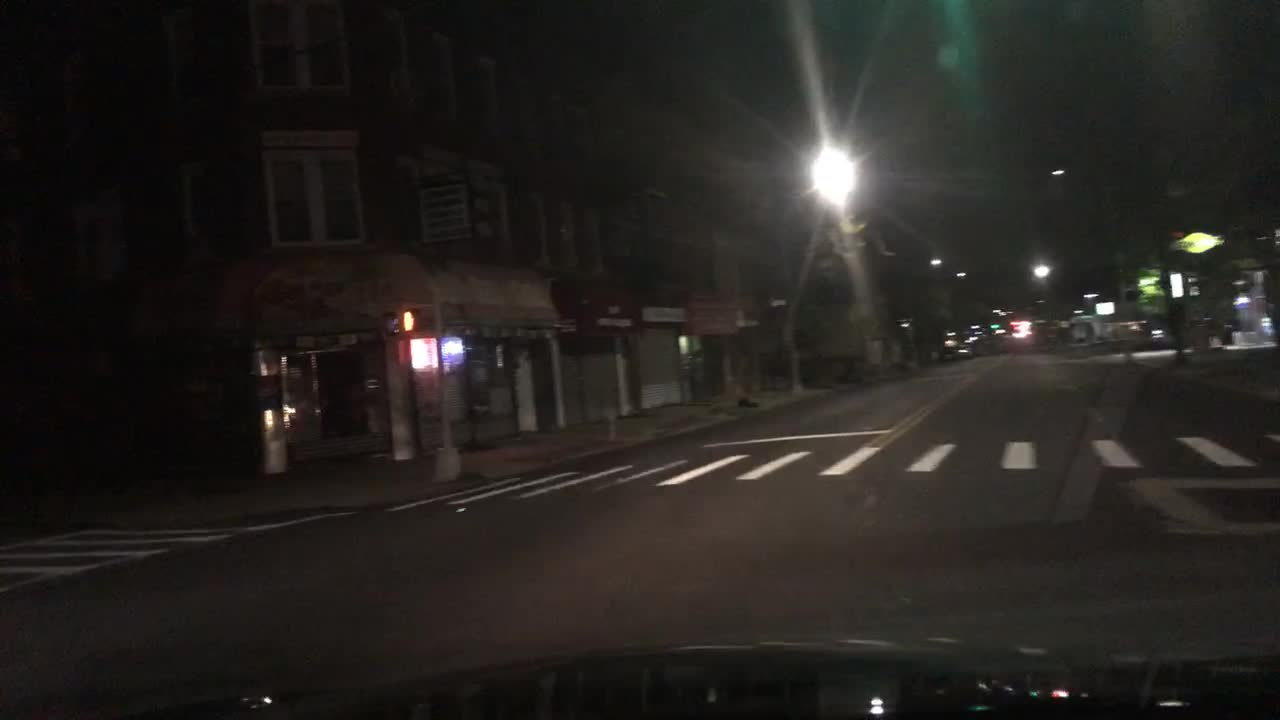car: (1133, 321, 1165, 346), (939, 337, 969, 360)
traffic light: (380, 305, 415, 337)
traffic sign: (1167, 271, 1185, 299), (1095, 300, 1115, 316)
